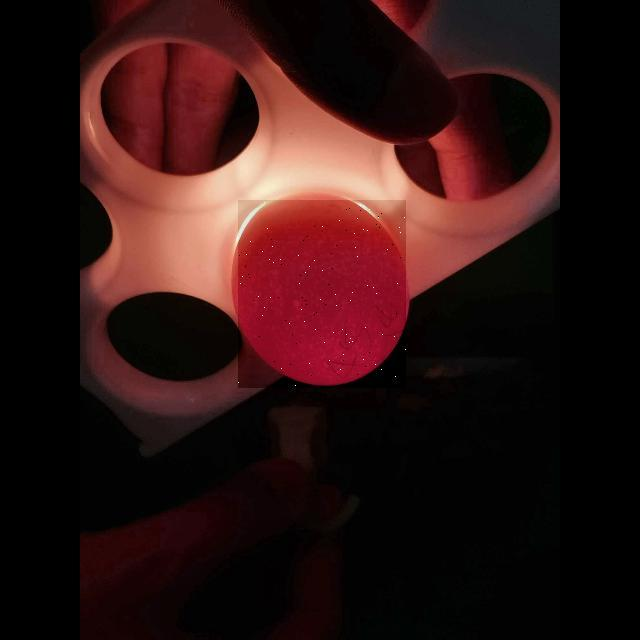Infertile: (238, 200, 406, 388)
